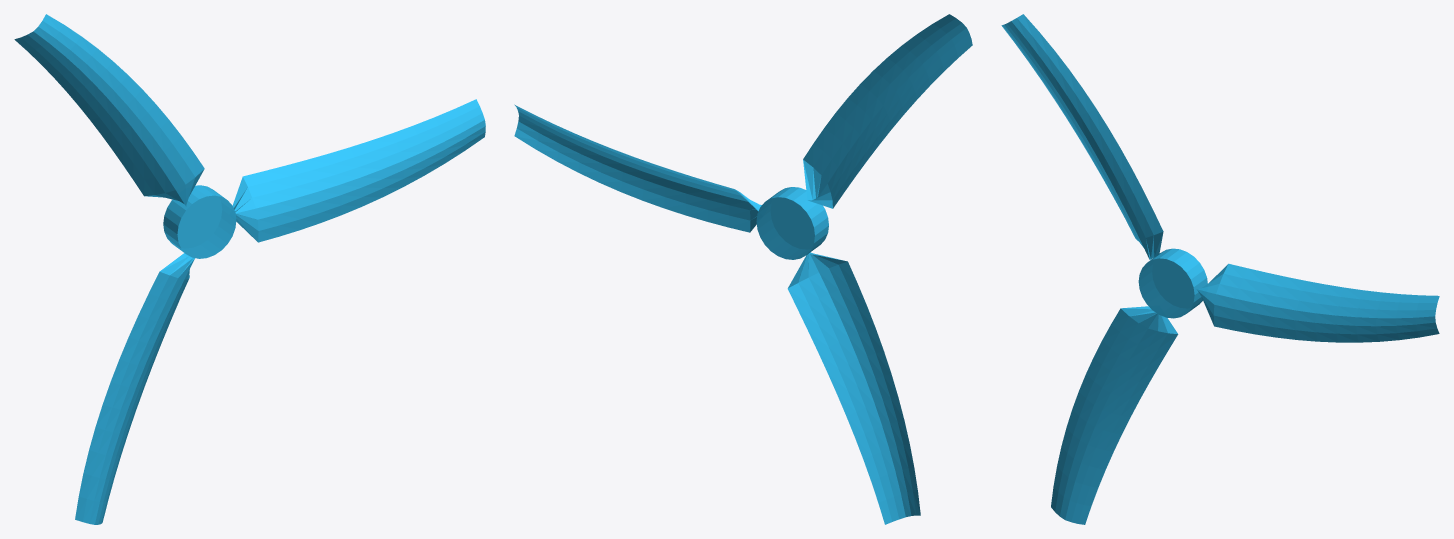
File: cinewhoop_prop_ccw.obj
3 renders of one model, left to right at view 1: azimuth 30°, elevation 25°; view 2: azimuth 150°, elevation 25°; view 3: azimuth 330°, elevation 25°, orthographic. The views are drawn at different scales.
Bounding box in the file's own units: 0.1897 × 0.2047 × 0.011.
